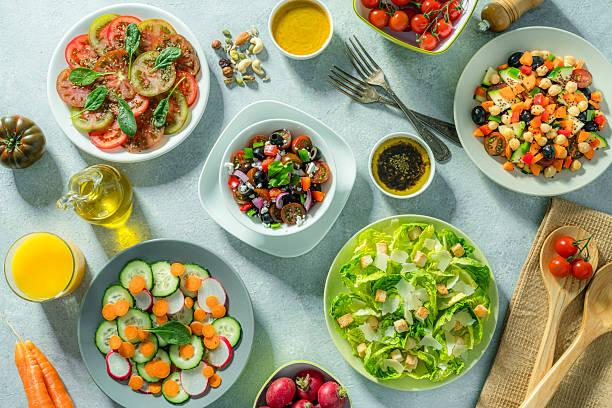Braised Crucian Carp: (76, 239, 253, 407), (323, 216, 492, 391), (454, 25, 610, 195), (45, 3, 208, 164), (198, 98, 350, 255)
